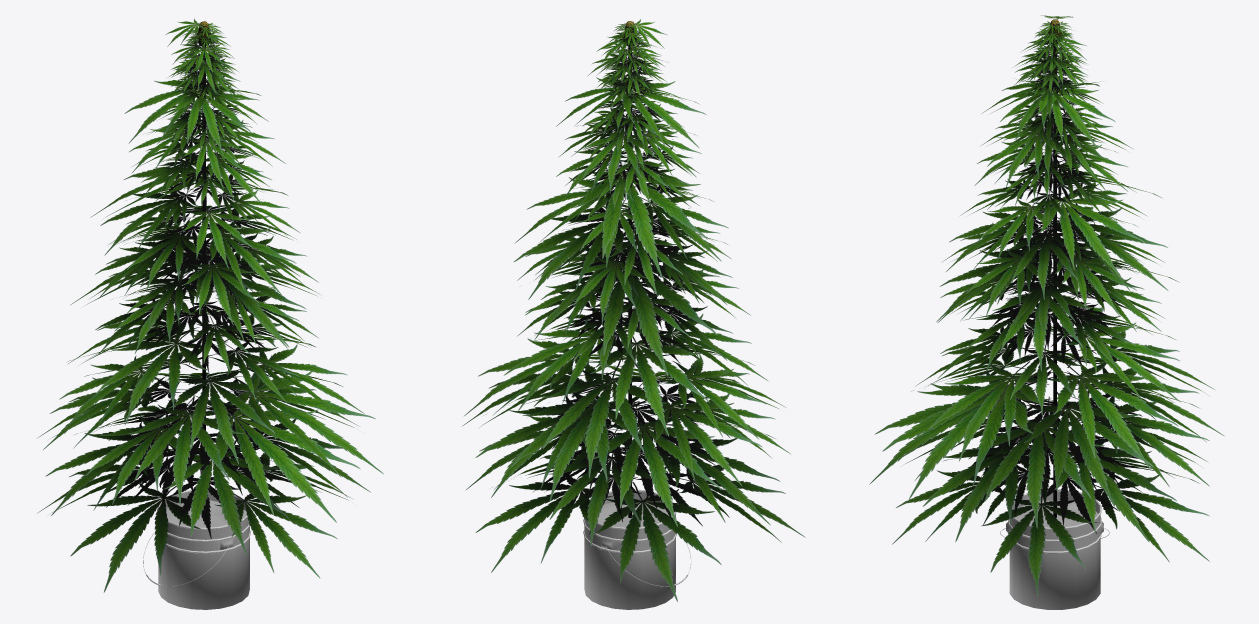
Rendered from cannabis_plant.gltf.
3 renders of one model, left to right at view 1: azimuth 30°, elevation 25°; view 2: azimuth 150°, elevation 25°; view 3: azimuth 270°, elevation 25°, orthographic.
Visible parts, largest first — view 1: Object002_Material #26_0, Object002_Material #66_0; view 2: Object002_Material #26_0, Object002_Material #66_0; view 3: Object002_Material #26_0, Object002_Material #66_0, Object002_Material #28_0.
Part boxes in pixels (x1=…): Object002_Material #26_0: x1=38, y1=18, x2=383, y2=592; Object002_Material #66_0: x1=143, y1=490, x2=250, y2=609; Object002_Material #26_0: x1=463, y1=19, x2=805, y2=601; Object002_Material #66_0: x1=583, y1=489, x2=691, y2=609; Object002_Material #26_0: x1=869, y1=15, x2=1224, y2=596; Object002_Material #66_0: x1=1000, y1=489, x2=1109, y2=609; Object002_Material #28_0: x1=1053, y1=45, x2=1056, y2=517.
Size of the model in its own units: 0.0305 by 0.0495 by 0.0314.
